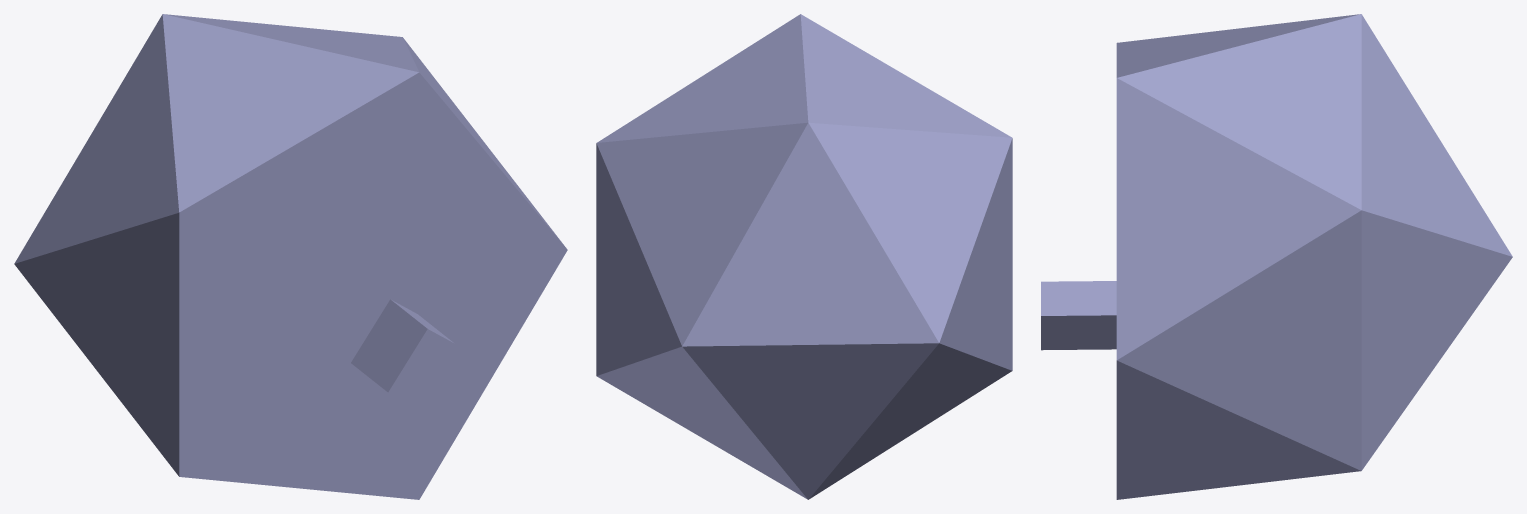
Rendered from ico-room_01.fbx.
3 views of the same model, side by side, from view 1: azimuth 30°, elevation 25°; view 2: azimuth 150°, elevation 25°; view 3: azimuth 270°, elevation 25° (orthographic). The views are drawn at different scales.
Visible parts, largest first — view 1: ico-room; view 2: ico-room; view 3: ico-room.
Boxes of the visible parts, x1=… form: ico-room: x1=14, y1=14, x2=567, y2=499; ico-room: x1=596, y1=14, x2=1012, y2=499; ico-room: x1=1041, y1=14, x2=1512, y2=499.
Bounding box in the file's own units: 8.51 × 8.94 × 8.62.
